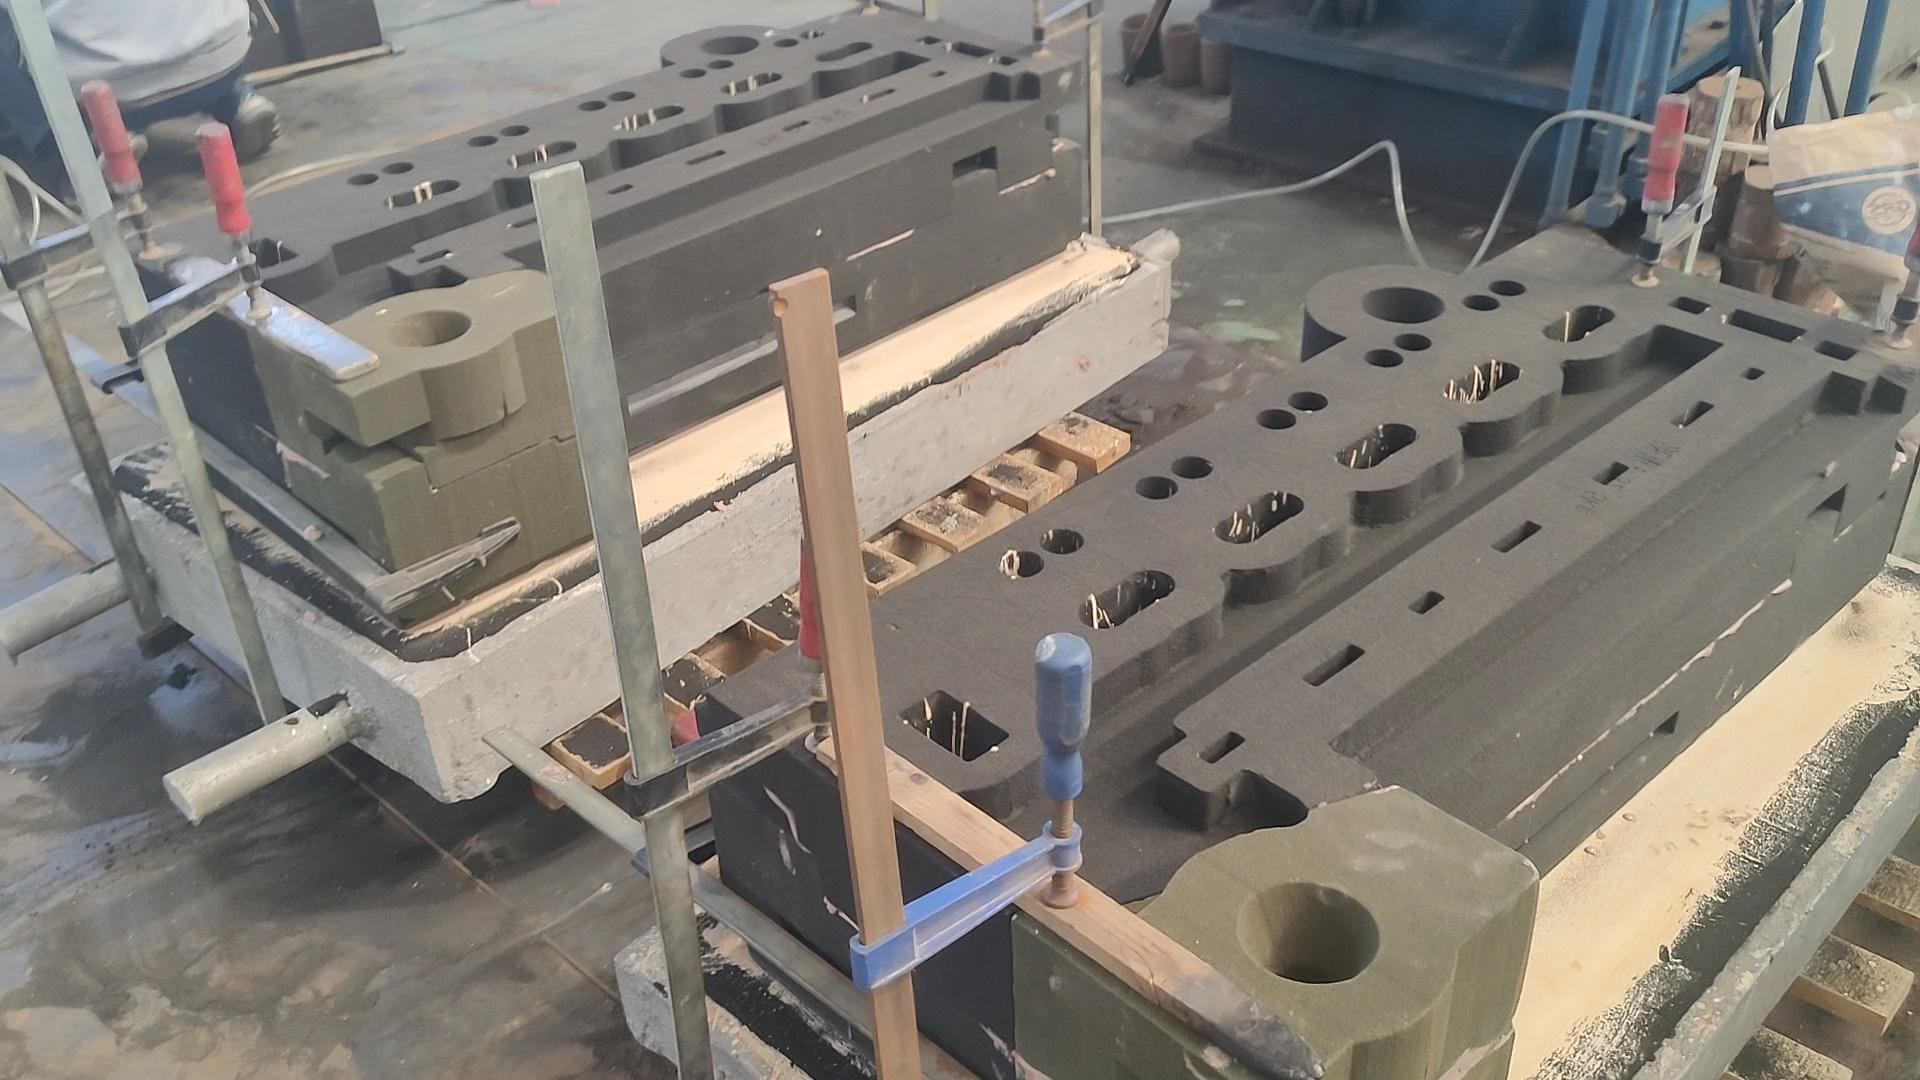pouring hole: (1236, 882, 1382, 985), (384, 309, 473, 348), (1361, 287, 1445, 323), (699, 36, 760, 54), (1121, 11, 1156, 32), (1164, 18, 1197, 34), (1199, 32, 1229, 46)
